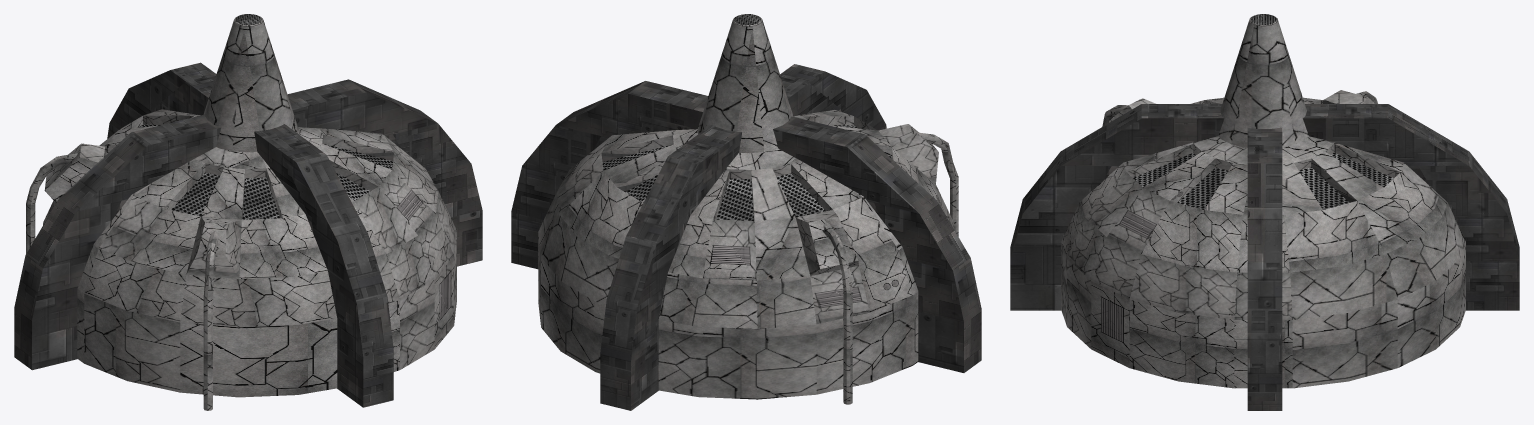
Rendered from reactorsmall.fbx.
3 renders of one model, left to right at view 1: azimuth 30°, elevation 25°; view 2: azimuth 150°, elevation 25°; view 3: azimuth 270°, elevation 25°, orthographic. The views are drawn at different scales.
Parts seen in each view (by area): view 1: Cylinder; view 2: Cylinder; view 3: Cylinder.
Part boxes in pixels (box(x1,y1,x2,y2)): Cylinder: box(14, 14, 482, 410); Cylinder: box(511, 14, 981, 410); Cylinder: box(1010, 14, 1519, 410).
Size of the model in its own units: 1989 by 1261 by 1989.
